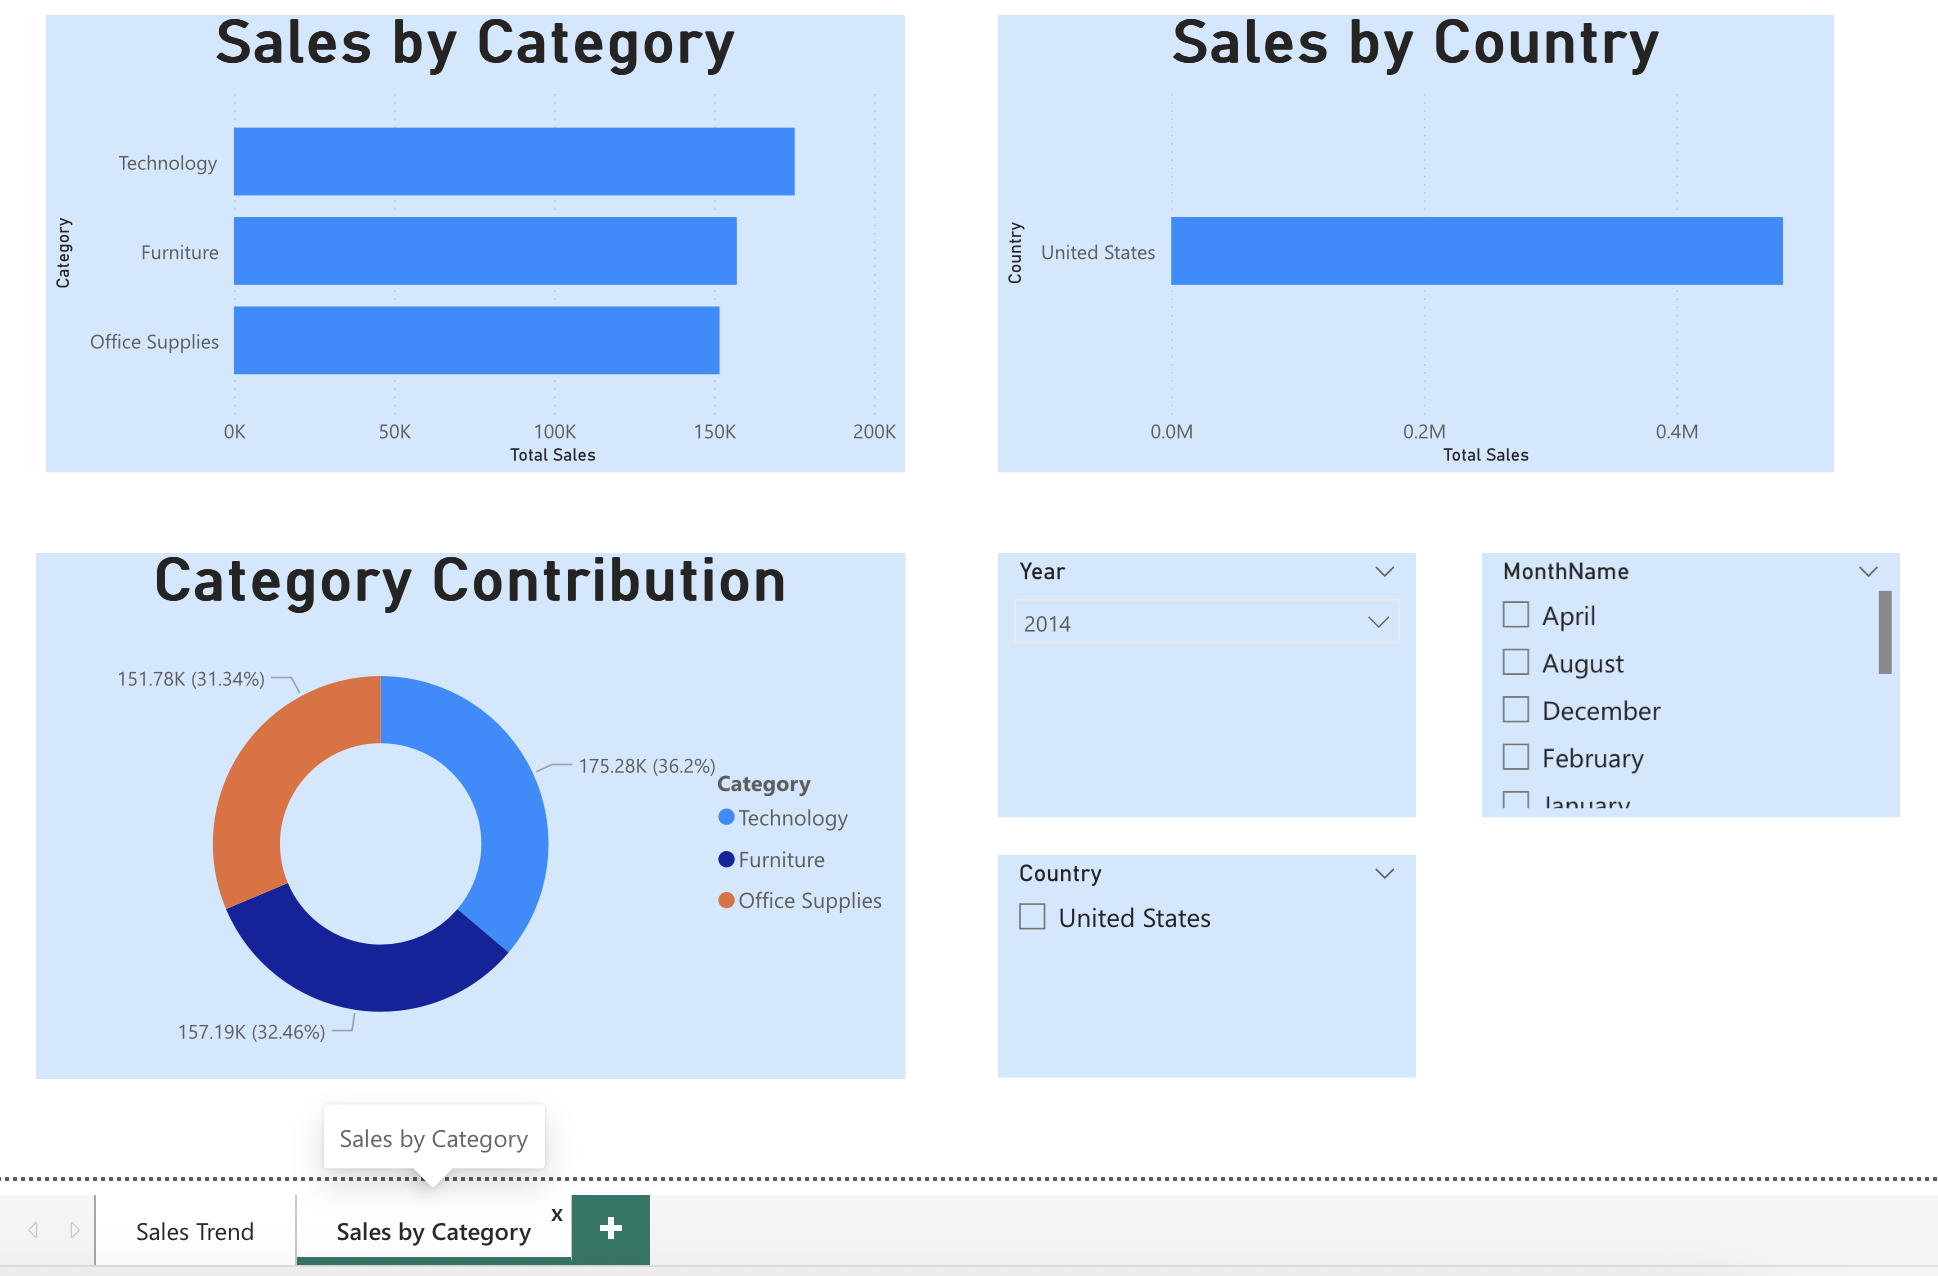

Layout of this report page (visuals, bound fields, positions):
{"tool":"powerbi","page":{"name":"Sales by Category","canvas":[1280,720],"ordinal":1},"visuals":[{"type":"clusteredBarChart","title":"Sales by Category","fields":{"Category":["clean_store_data.Category"],"Y":["KPI_Table.Total Sales"]},"box":[101.7,10.2,525,279.6],"z":0},{"type":"barChart","title":"Sales by Country","fields":{"Category":["clean_store_data.Country"],"Y":["KPI_Table.Total Sales"]},"box":[683.9,10.2,511,279.6],"z":1000},{"type":"donutChart","title":"Category Contribution","fields":{"Category":["clean_store_data.Category"],"Y":["KPI_Table.Total Sales"]},"box":[95.3,338.1,531.3,321.6],"z":2000},{"type":"slicer","fields":{"Values":["Calendar.Year"]},"box":[683.9,338.1,255.5,161.4],"z":3000},{"type":"slicer","fields":{"Values":["Calendar.MonthName"]},"box":[978.7,338.1,255.5,161.4],"z":4000},{"type":"slicer","fields":{"Values":["clean_store_data.Country"]},"box":[683.9,523.7,255.5,136],"z":5000}]}

Visuals, with their boxes on the page's 1280x720 design canvas (x1, y1, x2, y2). These are canvas units, not pixel positions in the 1938x1276 screenshot, which may show the page scaled, cropped or inside an application window:
"Sales by Category" clusteredBarChart: [102, 10, 627, 290]
"Sales by Country" barChart: [684, 10, 1195, 290]
"Category Contribution" donutChart: [95, 338, 627, 660]
slicer - Calendar.Year: [684, 338, 939, 500]
slicer - Calendar.MonthName: [979, 338, 1234, 500]
slicer - clean_store_data.Country: [684, 524, 939, 660]
